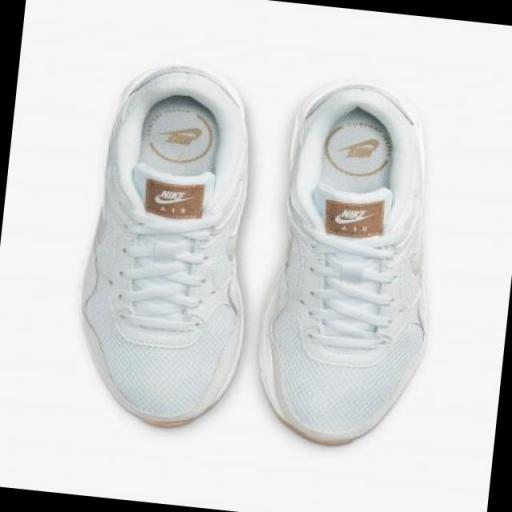Nike: (333, 213, 368, 228), (159, 188, 188, 202)
